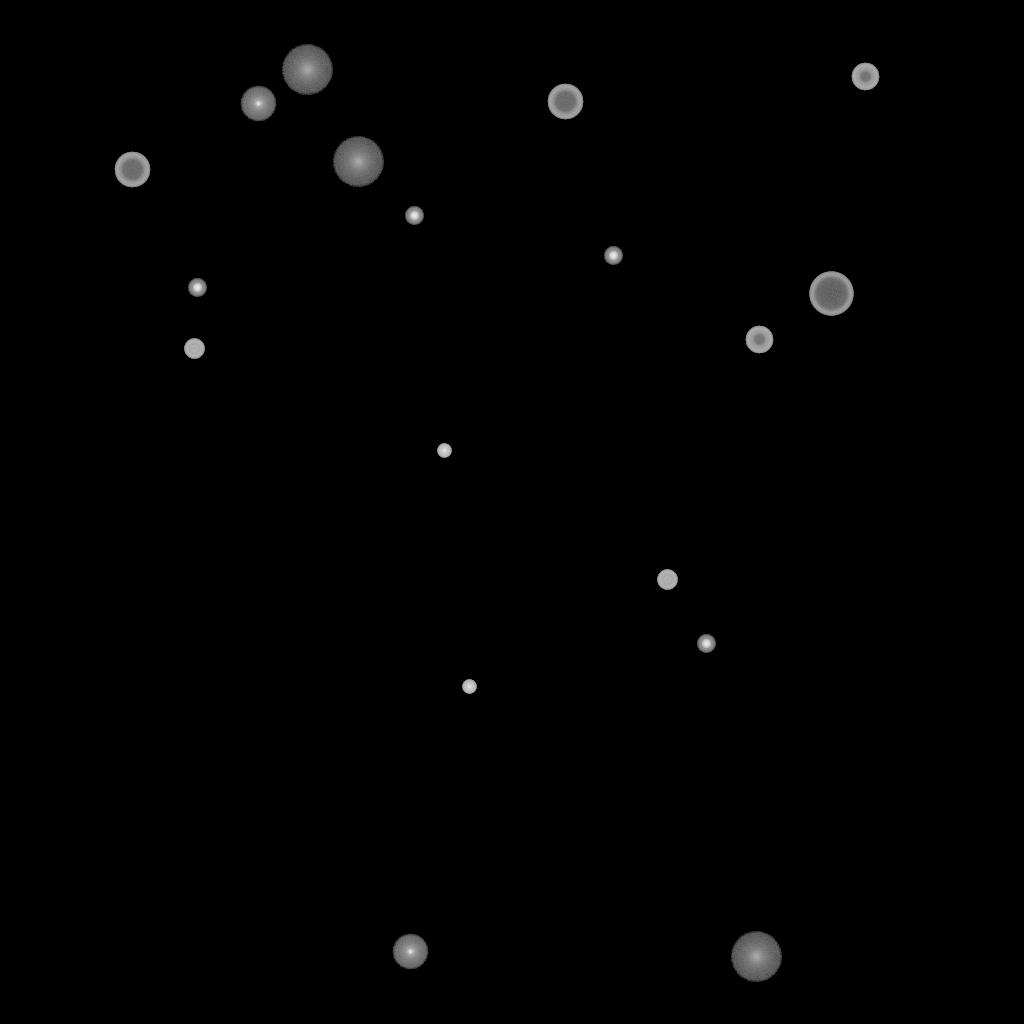depth:-20: (405, 207, 423, 225), (697, 635, 715, 653), (188, 279, 206, 297), (604, 247, 622, 265)
depth:-30: (437, 444, 451, 458), (462, 680, 476, 694)
depth:-40: (657, 570, 677, 590), (184, 339, 204, 359)
depth:-50: (745, 326, 773, 354), (851, 63, 879, 91)
depth:-60: (114, 152, 150, 188), (547, 84, 583, 120)
depth:-70: (809, 272, 853, 316)
depth:0: (392, 934, 428, 970), (240, 86, 276, 122)
depth:20: (332, 137, 384, 187), (730, 932, 782, 982), (281, 45, 333, 95)
